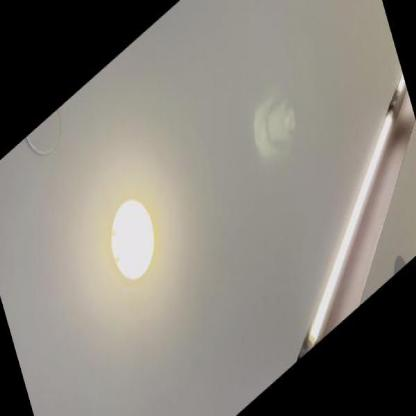light_on: (260, 104, 416, 361), (95, 159, 174, 305), (392, 70, 409, 104)
